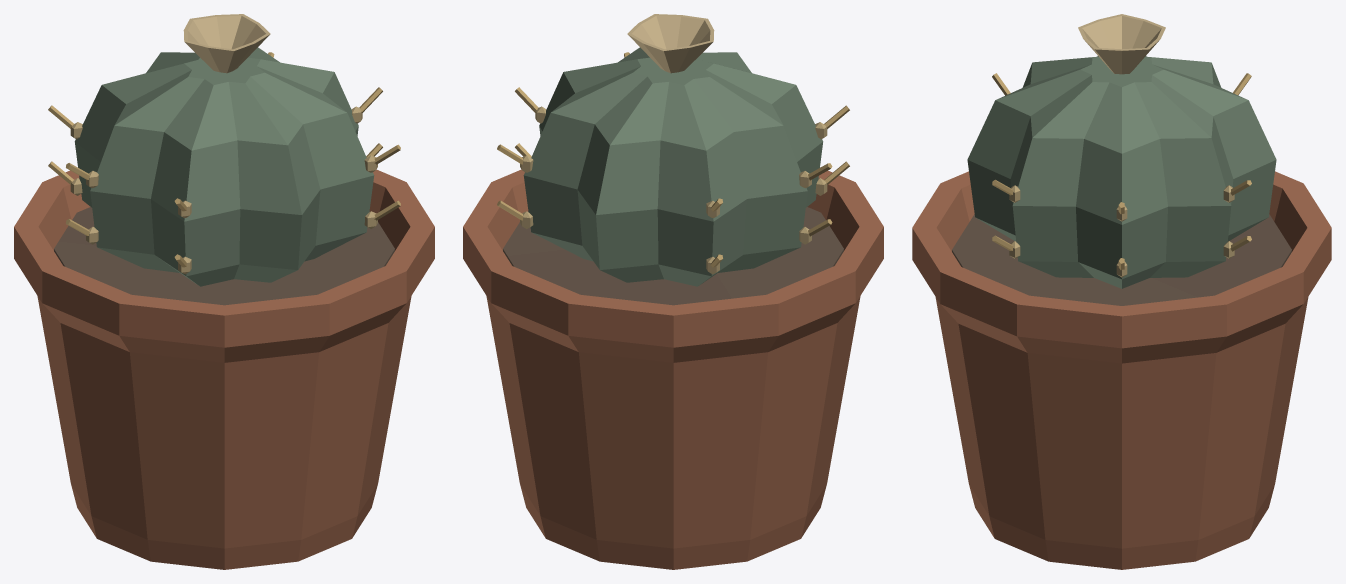
The model's file is new-baldianum.glb.
3 renders of one model, left to right at view 1: azimuth 30°, elevation 25°; view 2: azimuth 150°, elevation 25°; view 3: azimuth 270°, elevation 25°, orthographic.
Parts seen in each view (by area): view 1: new-baldianum/review-terra-vessel, new-baldianum/ribbed-stem-001, new-baldianum/review-rooted-soil, new-baldianum/hollow-corolla-026; view 2: new-baldianum/review-terra-vessel, new-baldianum/ribbed-stem-001, new-baldianum/review-rooted-soil, new-baldianum/hollow-corolla-026; view 3: new-baldianum/review-terra-vessel, new-baldianum/ribbed-stem-001, new-baldianum/review-rooted-soil, new-baldianum/hollow-corolla-026.
Boxes of the visible parts, bbox=[...] form: new-baldianum/review-terra-vessel: bbox=[14, 169, 434, 569]; new-baldianum/ribbed-stem-001: bbox=[74, 47, 374, 286]; new-baldianum/review-rooted-soil: bbox=[54, 207, 394, 305]; new-baldianum/hollow-corolla-026: bbox=[183, 14, 270, 73]; new-baldianum/review-terra-vessel: bbox=[463, 167, 883, 569]; new-baldianum/ribbed-stem-001: bbox=[523, 47, 823, 286]; new-baldianum/review-rooted-soil: bbox=[503, 207, 843, 305]; new-baldianum/hollow-corolla-026: bbox=[627, 14, 714, 73]; new-baldianum/review-terra-vessel: bbox=[912, 171, 1331, 569]; new-baldianum/ribbed-stem-001: bbox=[967, 56, 1276, 288]; new-baldianum/review-rooted-soil: bbox=[952, 214, 1291, 305]; new-baldianum/hollow-corolla-026: bbox=[1078, 14, 1165, 74].
Size of the model in its own units: 0.19 by 0.237 by 0.19.
7 materials, 7 textured.
